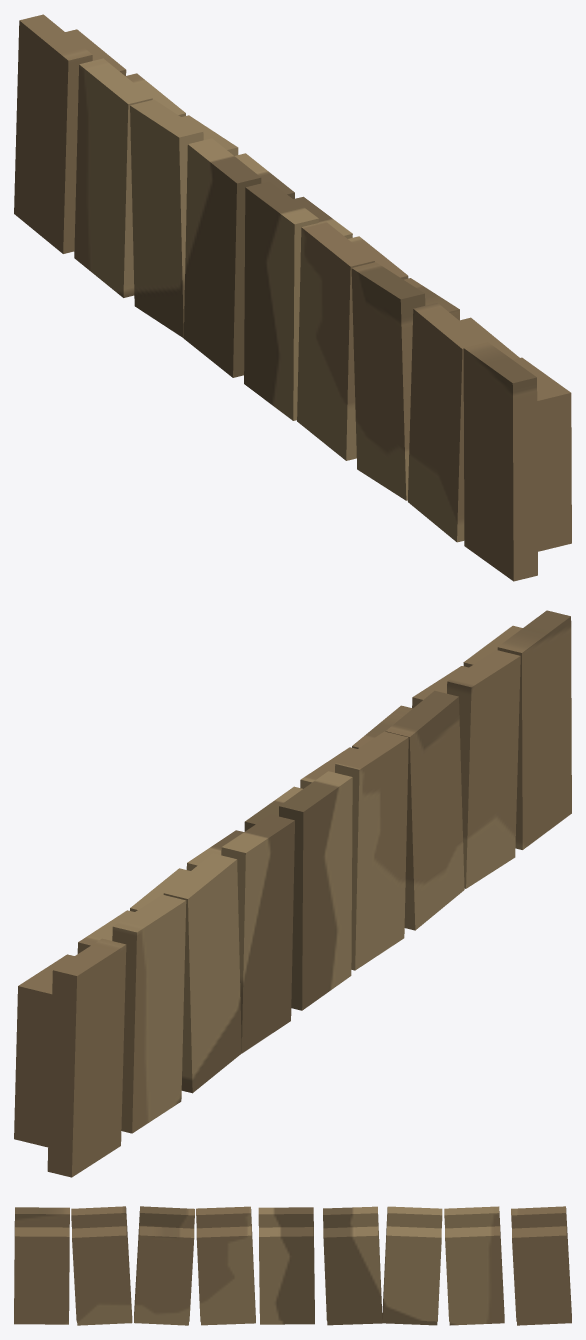
The model's file is SM_Veh_Attach_Tank_Armour_05.fbx.
3 renders of one model, top to bottom at view 1: azimuth 30°, elevation 25°; view 2: azimuth 150°, elevation 25°; view 3: azimuth 270°, elevation 25°, orthographic. The views are drawn at different scales.
Parts seen in each view (by area): view 1: SM_Veh_Attach_Tank_Armour_05; view 2: SM_Veh_Attach_Tank_Armour_05; view 3: SM_Veh_Attach_Tank_Armour_05.
Boxes of the visible parts, box(x1,y1,x2,y2) form: SM_Veh_Attach_Tank_Armour_05: box(14, 14, 571, 581); SM_Veh_Attach_Tank_Armour_05: box(14, 610, 571, 1177); SM_Veh_Attach_Tank_Armour_05: box(14, 1206, 571, 1325).
Bounding box in the file's own units: 11.1 × 36.66 × 164.
